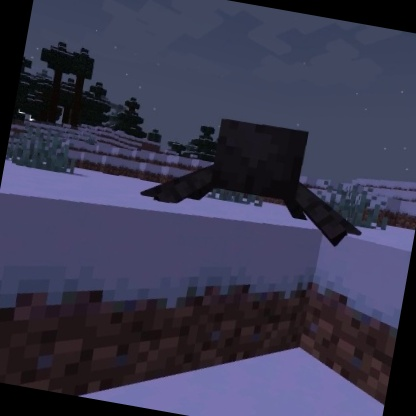spider: (132, 99, 381, 254)
